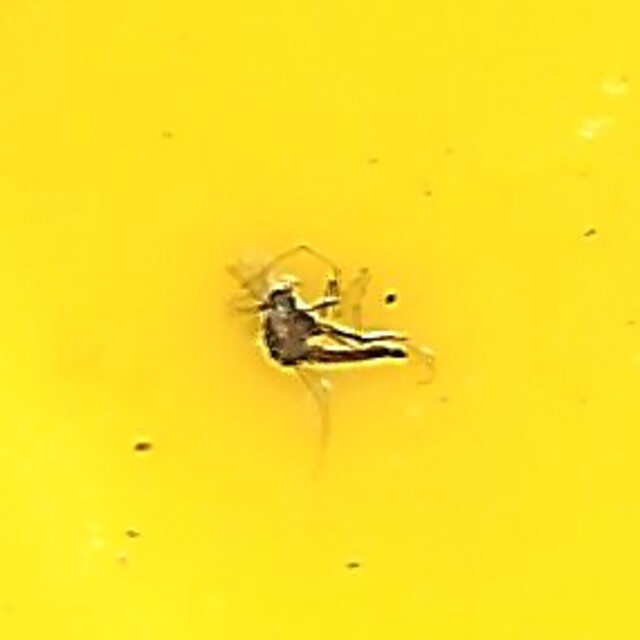Nematocera: (225, 243, 415, 397)
